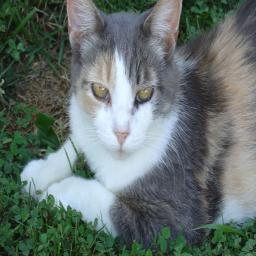catnose: (114, 132, 130, 144)
